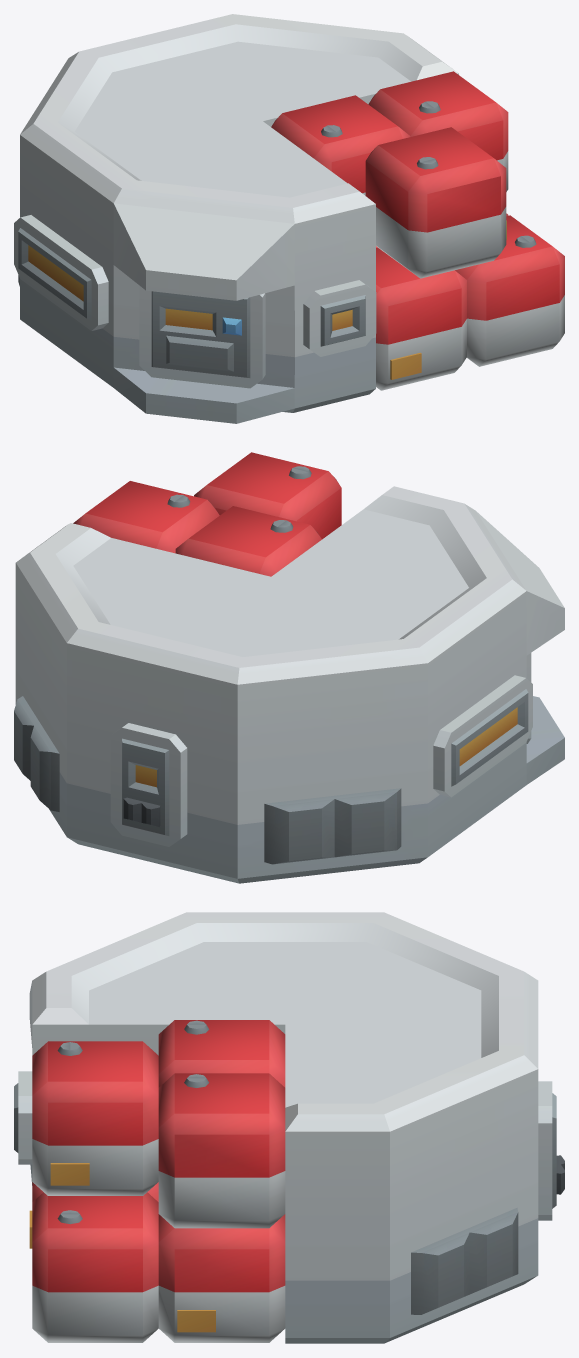
File: cargodepot_b.glb
3 renders of one model, top to bottom at view 1: azimuth 30°, elevation 25°; view 2: azimuth 150°, elevation 25°; view 3: azimuth 270°, elevation 25°, orthographic. The views are drawn at different scales.
Visible parts, largest first — view 1: cargodepot_B; view 2: cargodepot_B; view 3: cargodepot_B.
Boxes of the visible parts, x1,y1,x2,y2 form: cargodepot_B: [14, 14, 564, 423]; cargodepot_B: [14, 452, 564, 883]; cargodepot_B: [14, 912, 564, 1343].
Bounding box in the file's own units: 2.08 × 1.02 × 2.18.
Materials: 1 (1 with a texture image).
